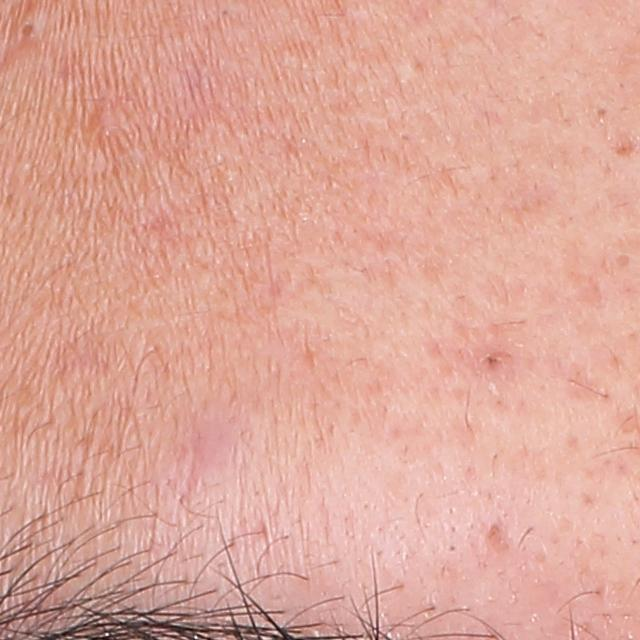comedo: (87, 104, 130, 147), (11, 3, 49, 46), (613, 251, 635, 269), (593, 104, 612, 121)
